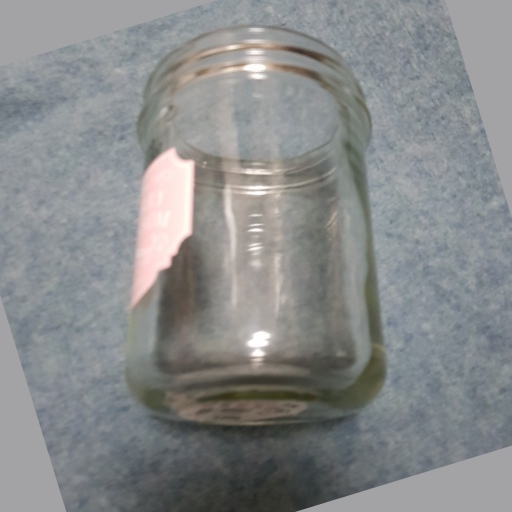Glass_5: (119, 26, 392, 430)
